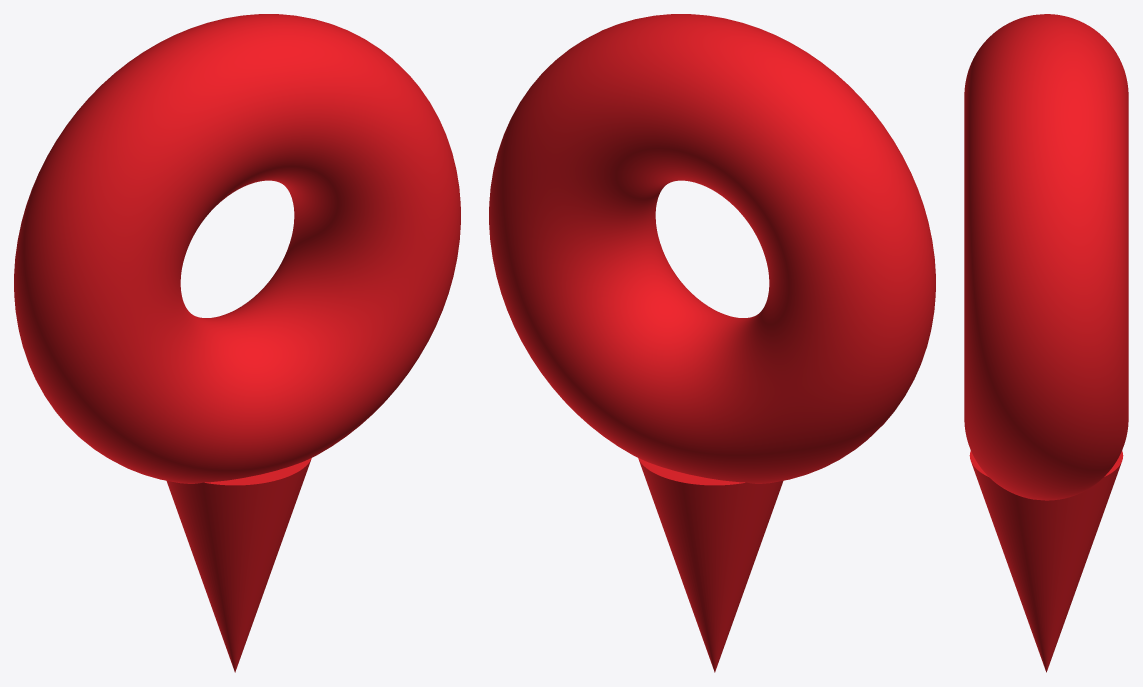
3 renders of one model, left to right at view 1: azimuth 30°, elevation 25°; view 2: azimuth 150°, elevation 25°; view 3: azimuth 270°, elevation 25°, orthographic.
Bounding box in the file's own units: 0.2523 × 0.3673 × 0.0858.
2 materials, 2 textured.
